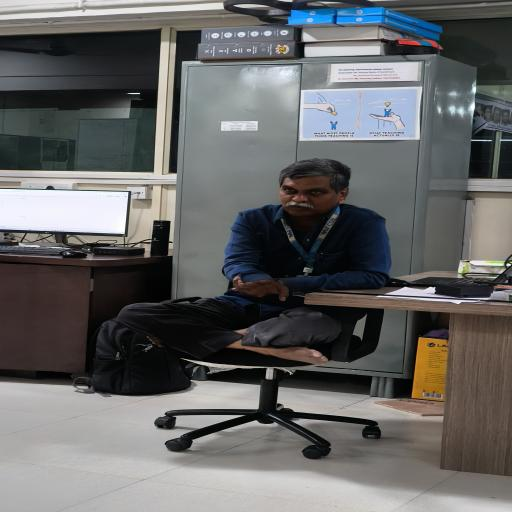survivor: (117, 158, 392, 365)
